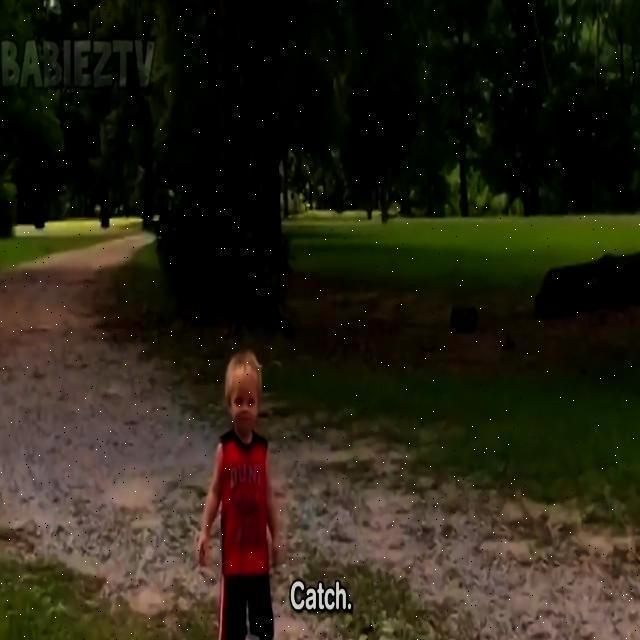child: (197, 353, 285, 640)
